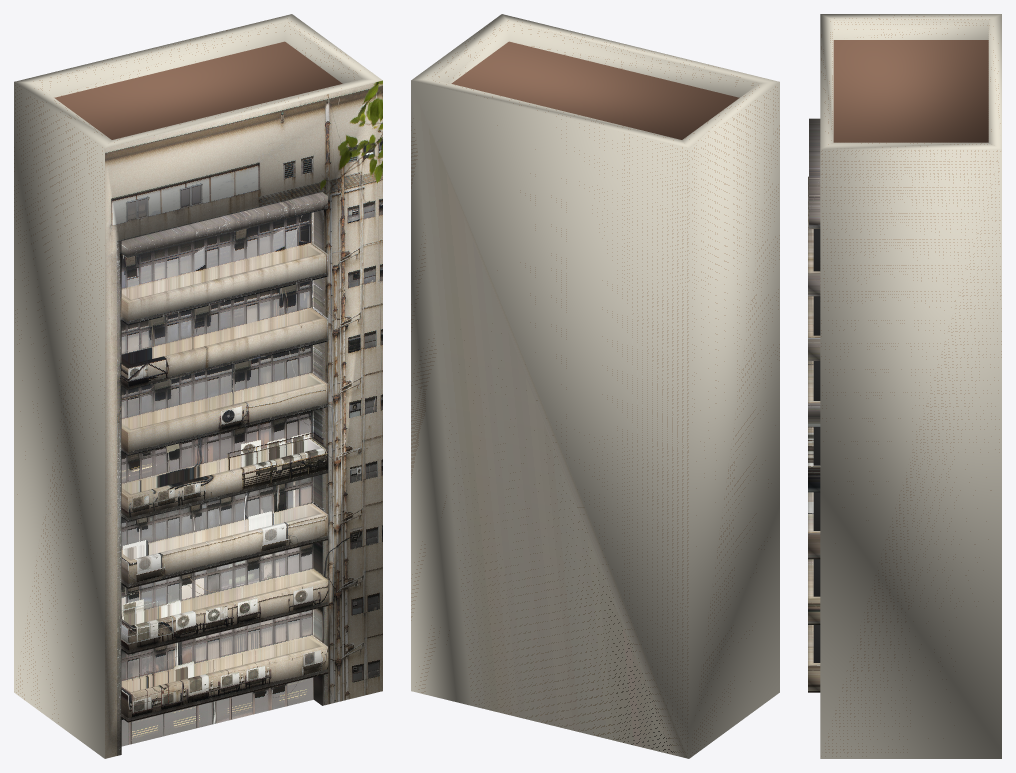
File: first_building3.glb
3 views of the same model, side by side, from view 1: azimuth 30°, elevation 25°; view 2: azimuth 150°, elevation 25°; view 3: azimuth 270°, elevation 25° (orthographic).
Parts seen in each view (by area): view 1: 평면; view 2: 평면; view 3: 평면.
Part boxes in pixels (<box>): 평면: <box>14,14,382,758</box>; 평면: <box>411,14,779,758</box>; 평면: <box>808,14,1001,758</box>.
Size of the model in its own units: 2.38 by 4.99 by 1.44.
Materials: 1 (1 with a texture image).
